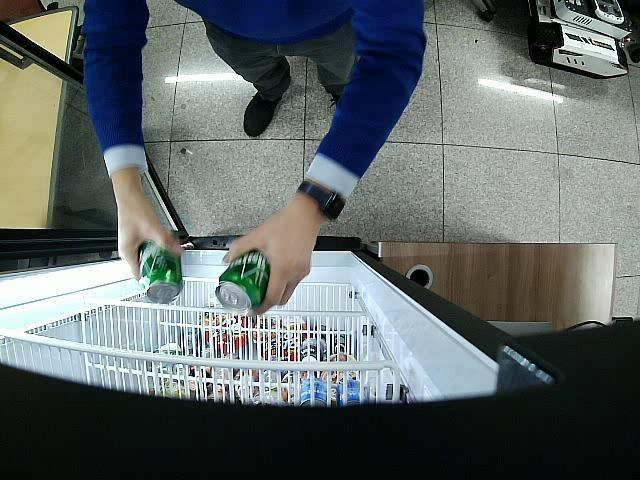12_chilsungCider: (216, 248, 270, 316), (140, 241, 183, 304)
